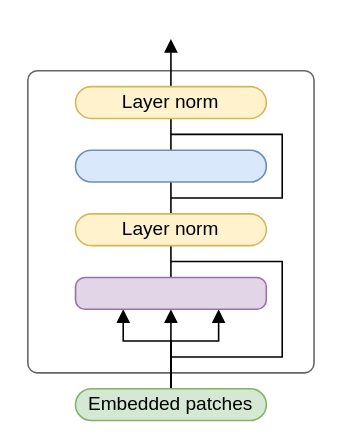
Image size: 342x448. Some labels were removed from this diagram. Here are the shapes that lost their labels. From the top down, the box of each, then its label:
(74, 149, 266, 182): MLP
(74, 276, 266, 309): Multi-head attention
